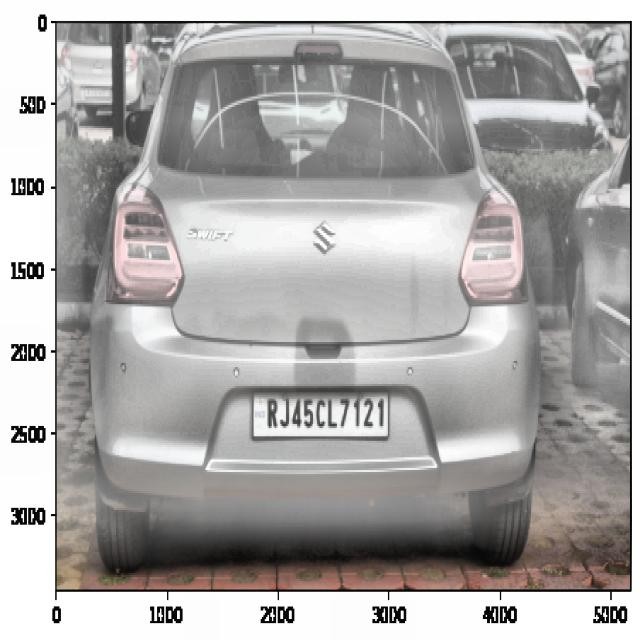license_plate: (262, 382, 391, 440)
